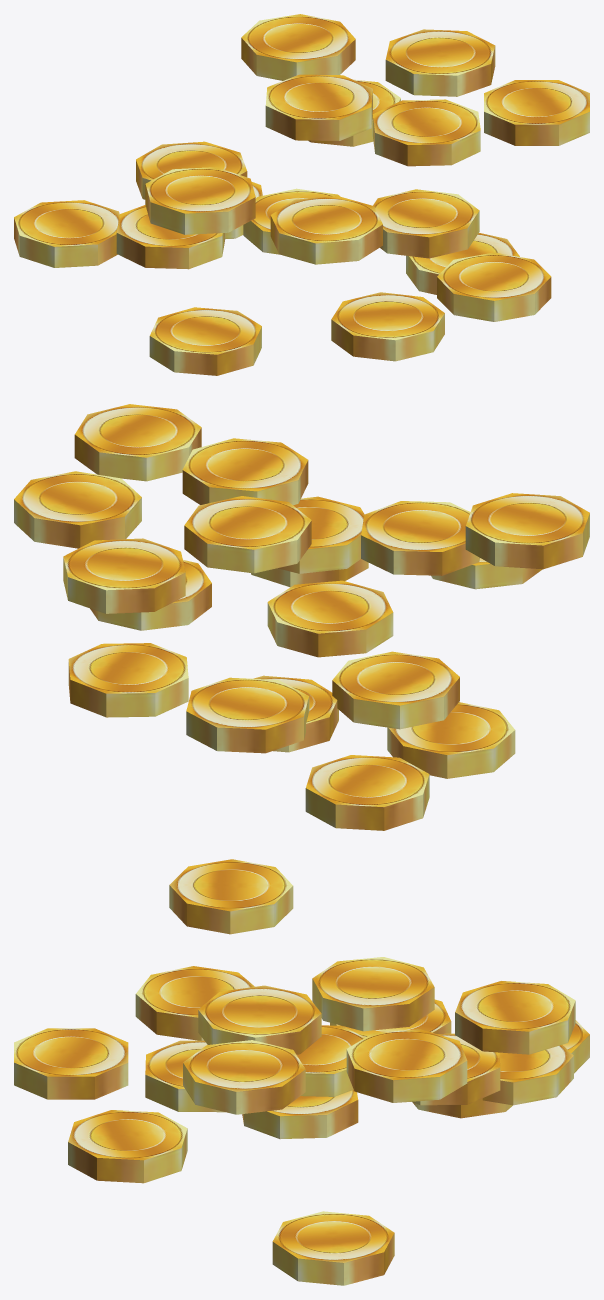
The model's file is gold.FBX.
3 renders of one model, top to bottom at view 1: azimuth 30°, elevation 25°; view 2: azimuth 150°, elevation 25°; view 3: azimuth 270°, elevation 25°, orthographic. The views are drawn at different scales.
Visible parts, largest first — view 1: gold; view 2: gold; view 3: gold.
Boxes of the visible parts, bbox=[...] form: gold: bbox=[14, 14, 589, 375]; gold: bbox=[14, 404, 589, 830]; gold: bbox=[14, 859, 589, 1285].
Bounding box in the file's own units: 72.74 × 30.79 × 76.08.
